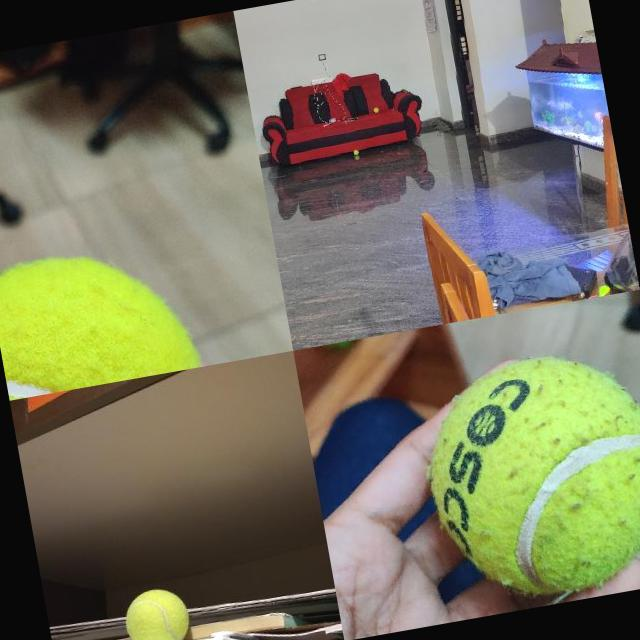tennis-ball: (409, 337, 640, 613), (0, 235, 199, 399), (119, 583, 192, 640), (373, 106, 379, 112), (353, 148, 359, 154)
